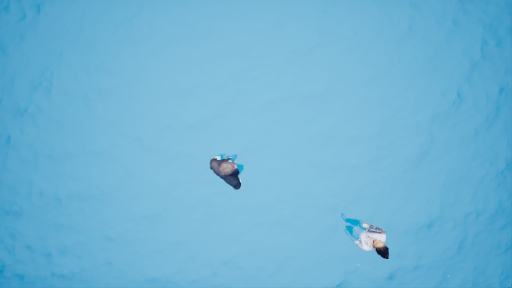person: (337, 212, 392, 260), (206, 151, 248, 191)
